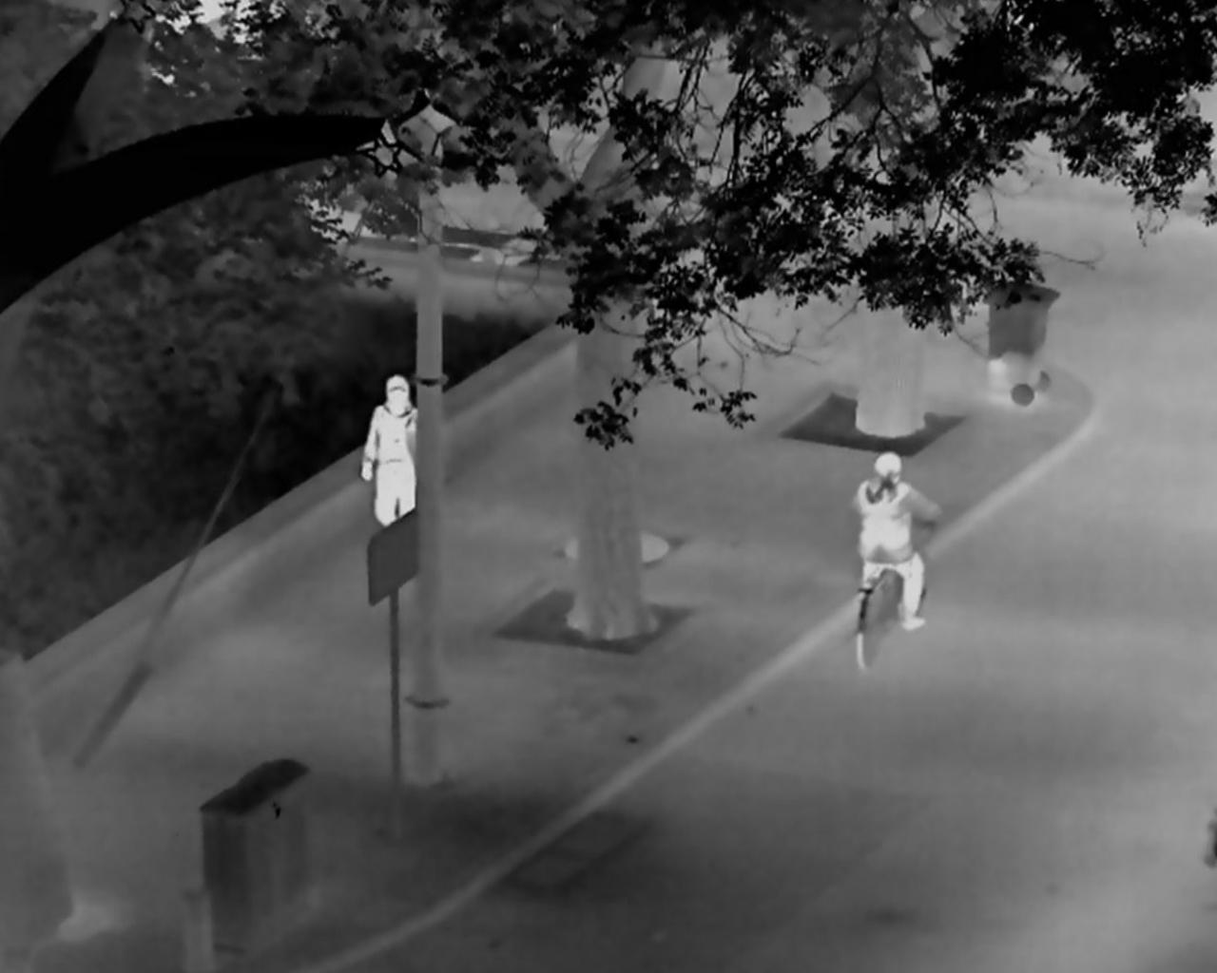person: (851, 448, 941, 631), (361, 372, 418, 527)
